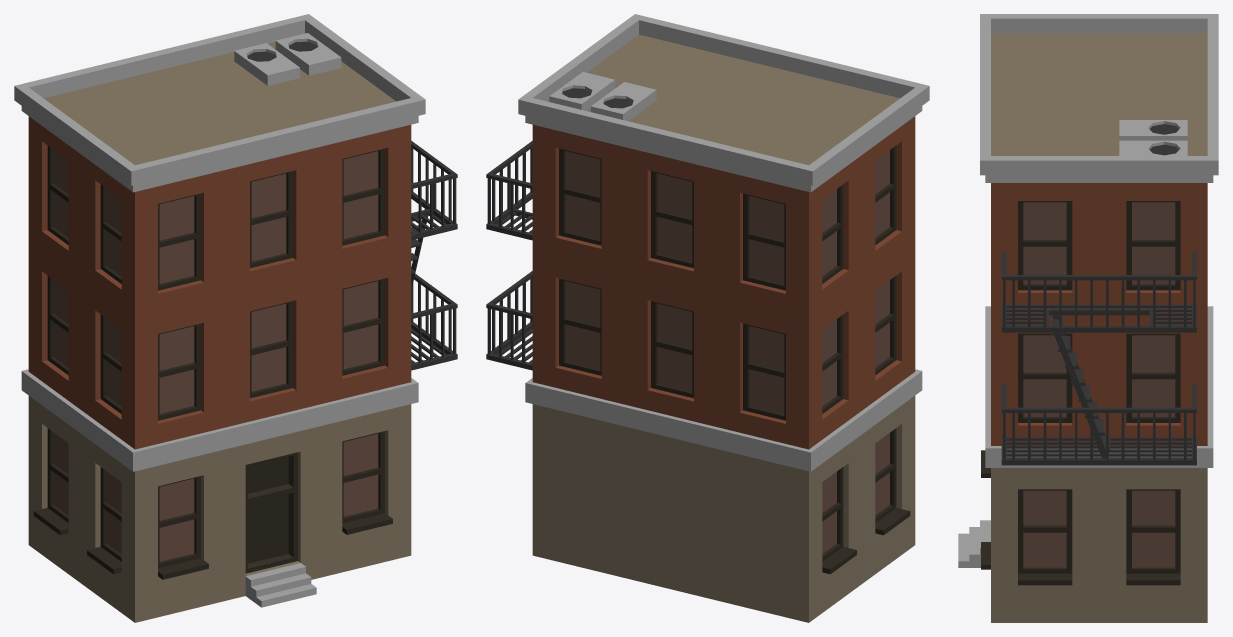
File: Buiding_1.fbx
3 views of the same model, side by side, from view 1: azimuth 30°, elevation 25°; view 2: azimuth 150°, elevation 25°; view 3: azimuth 270°, elevation 25° (orthographic). The views are drawn at different scales.
Visible parts, largest first — view 1: Building_1; view 2: Building_1; view 3: Building_1.
Part boxes in pixels (<box>): Building_1: <box>14,14,457,622</box>; Building_1: <box>486,14,929,622</box>; Building_1: <box>958,14,1218,622</box>.
Size of the model in its own units: 3662 by 4750 by 2400.
